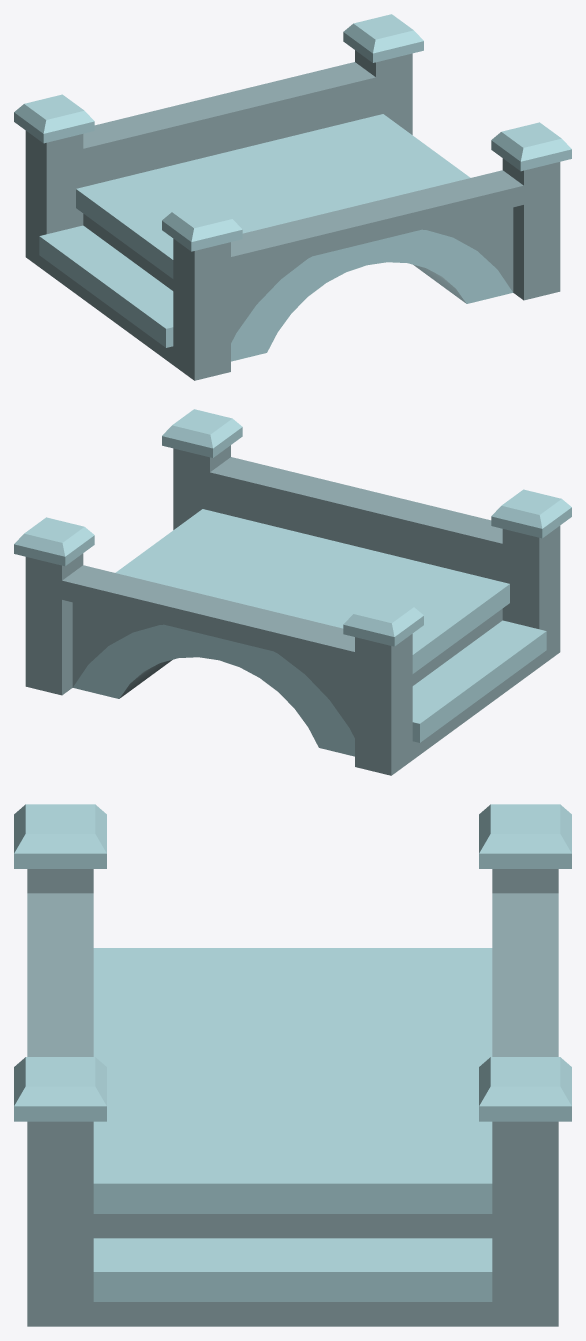
The picture shows the model from 3 angles, top to bottom: view 1: azimuth 30°, elevation 25°; view 2: azimuth 150°, elevation 25°; view 3: azimuth 270°, elevation 25°; orthographic projection. The views are drawn at different scales.
Parts seen in each view (by area): view 1: bridge_stoneRoundNarrow; view 2: bridge_stoneRoundNarrow; view 3: bridge_stoneRoundNarrow.
Boxes of the visible parts, x1,y1,x2,y2 form: bridge_stoneRoundNarrow: [14, 14, 571, 380]; bridge_stoneRoundNarrow: [14, 409, 571, 775]; bridge_stoneRoundNarrow: [14, 804, 571, 1326].
Size of the model in its own units: 1.04 by 0.4 by 0.84.
